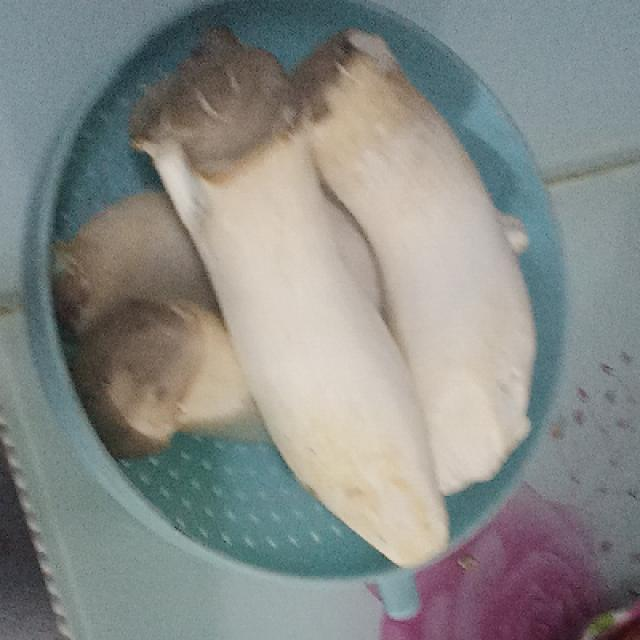Pleurotus eryngii: (66, 29, 532, 568)
